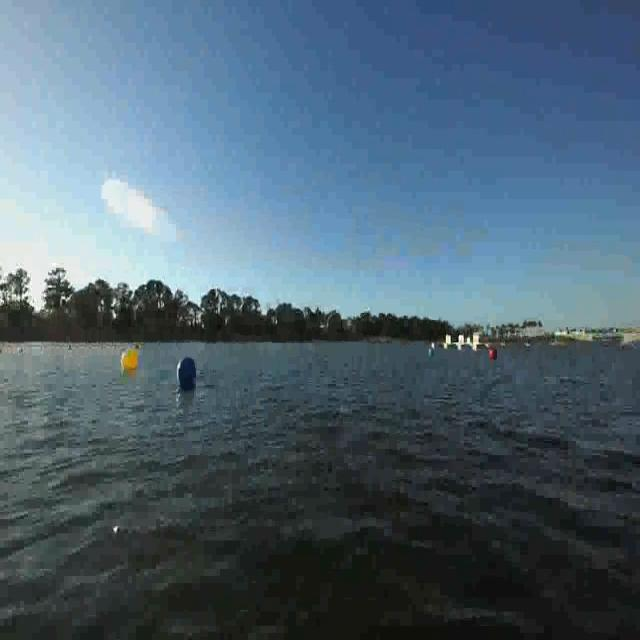blue-buoy: (181, 355, 198, 388)
red-buoy: (489, 348, 497, 361)
yellow-buoy: (123, 347, 139, 371)
